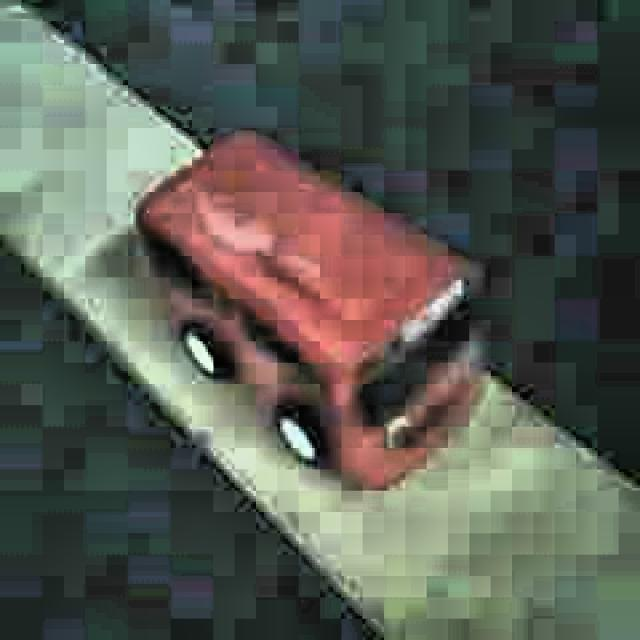bus: (136, 130, 483, 495)
